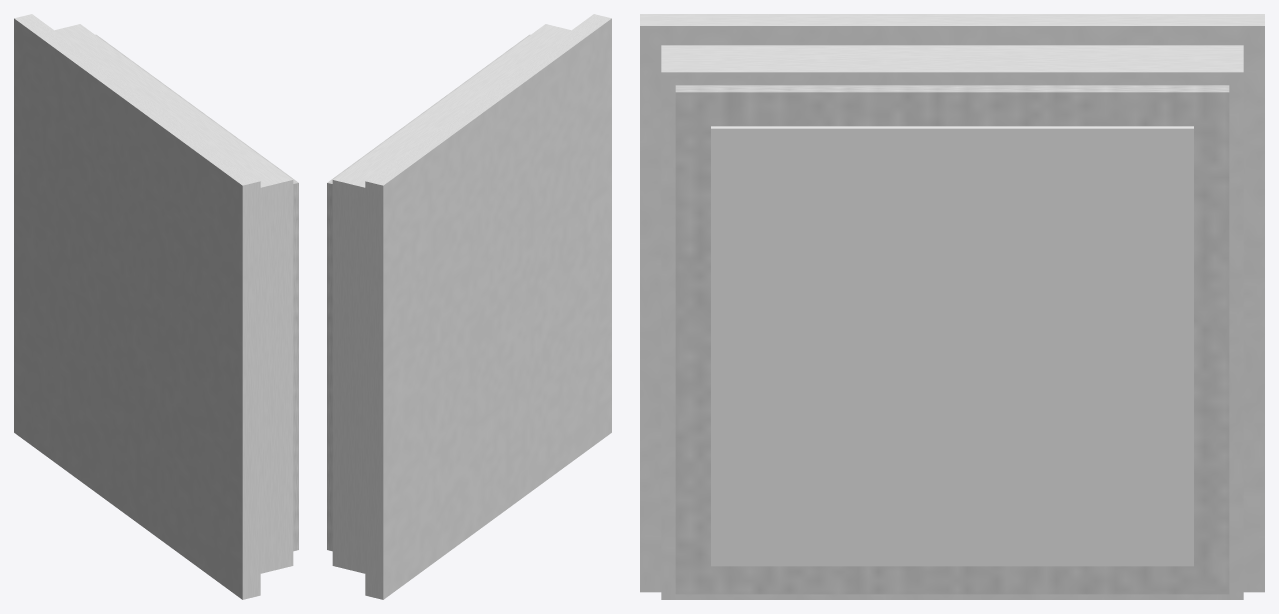
Rendered from poolsquarelight.obj.
3 views of the same model, side by side, from view 1: azimuth 30°, elevation 25°; view 2: azimuth 150°, elevation 25°; view 3: azimuth 270°, elevation 25° (orthographic). The views are drawn at different scales.
Parts seen in each view (by area): view 1: Base, Metal, Trim; view 2: Base, Metal, Trim; view 3: Light0, Trim, Base, Metal.
Boxes of the visible parts, <box> form: Base: <box>14,14,260,599</box>; Metal: <box>55,24,293,573</box>; Trim: <box>95,34,298,551</box>; Base: <box>365,14,611,599</box>; Metal: <box>332,24,570,573</box>; Trim: <box>327,34,530,551</box>; Light0: <box>711,126,1193,566</box>; Trim: <box>675,85,1229,594</box>; Base: <box>640,14,1264,592</box>; Metal: <box>661,45,1243,599</box>.
Size of the model in its own units: 0.084 by 0.44 by 0.44.
